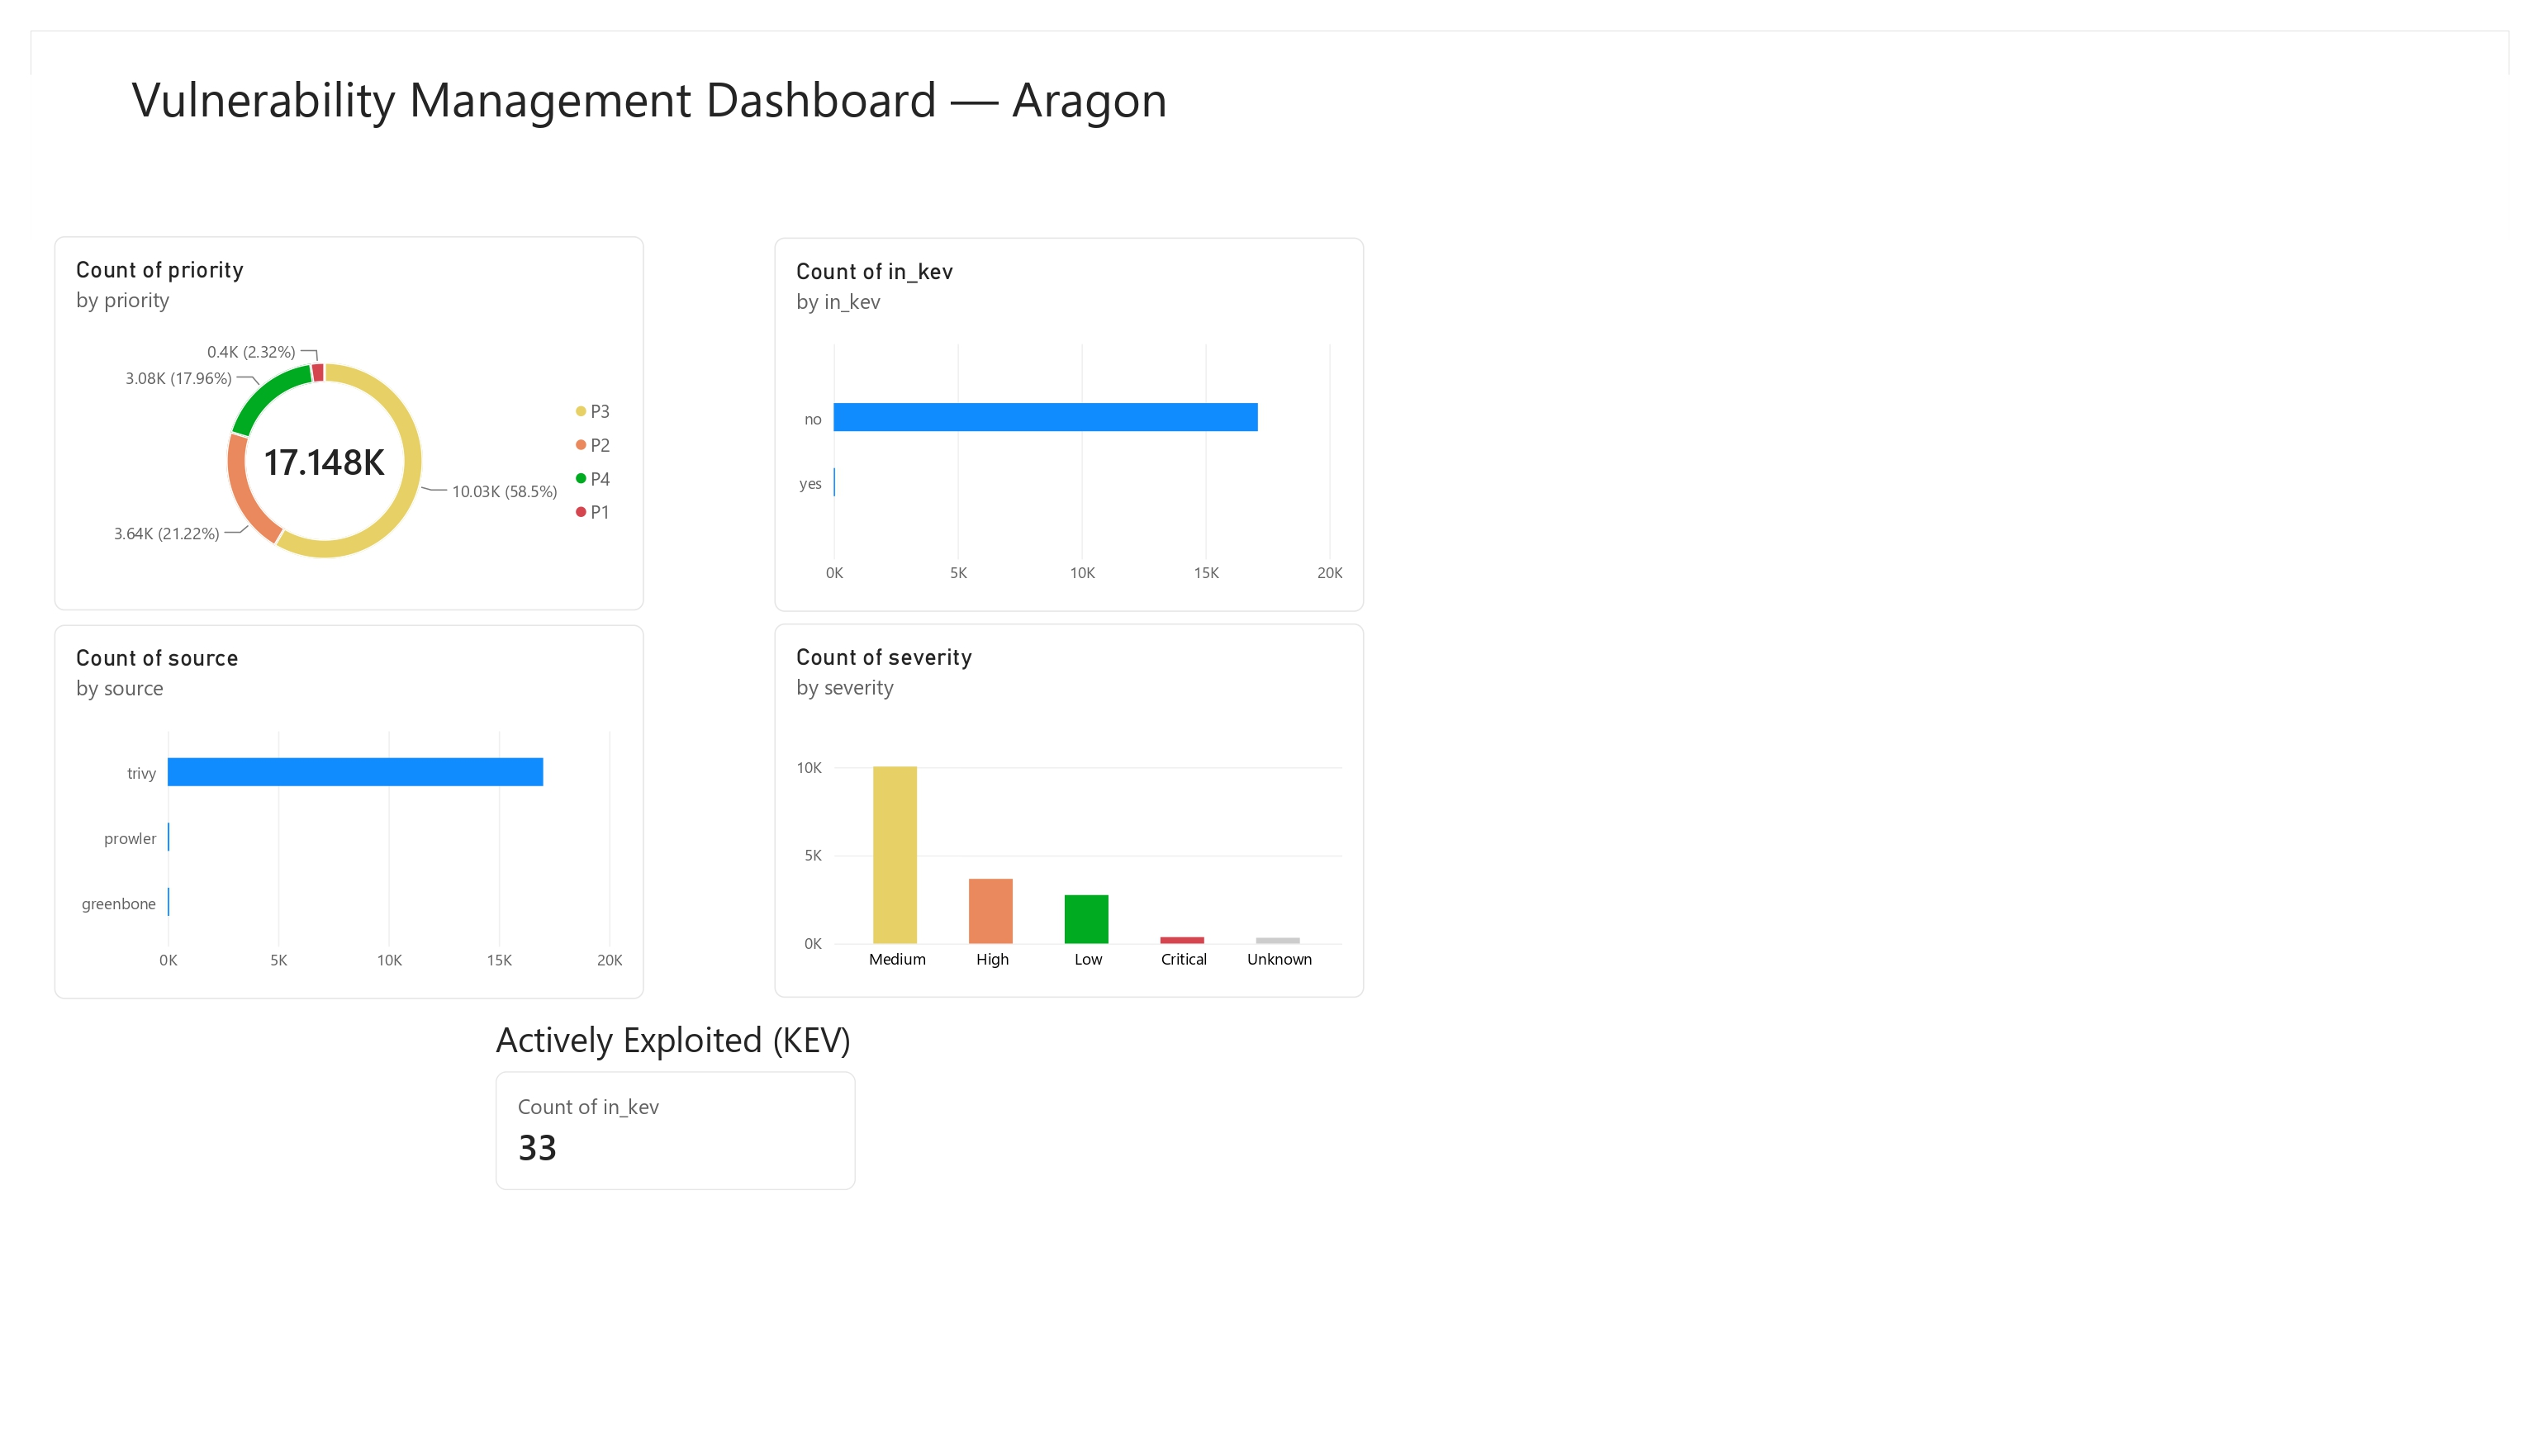

This screenshot's page, from the dashboard's own definition file:
{"tool":"powerbi","page":{"name":"Page 1","canvas":[1920,1080],"ordinal":0},"visuals":[{"type":"donutChart","fields":{"Category":["findings_scored.priority"],"Y":["CountNonNull(findings_scored.priority)"]},"box":[17.6,159.4,457,290],"z":0},{"type":"barChart","fields":{"Category":["findings_scored.source"],"Y":["CountNonNull(findings_scored.source)"]},"box":[18.2,459.6,457,290],"z":1000},{"type":"barChart","fields":{"Category":["findings_scored.in_kev"],"Y":["CountNonNull(findings_scored.in_kev)"]},"box":[576.4,160,457,290],"z":2000},{"type":"columnChart","fields":{"Category":["findings_scored.severity"],"Y":["CountNonNull(findings_scored.severity)"]},"box":[576.4,459.1,457,290],"z":3000},{"type":"textbox","box":[47.1,25.7,837.1,82.9],"z":4000},{"type":"cardVisual","fields":{"Data":["CountNonNull(findings_scored.in_kev)"]},"box":[359.8,805.7,279.3,92],"z":5000},{"type":"textbox","box":[359.8,762.1,279.3,43.7],"z":6000}]}

Visuals, with their boxes on the page's 1920x1080 design canvas (x1, y1, x2, y2). These are canvas units, not pixel positions in the 2540x1456 screenshot, which may show the page scaled, cropped or inside an application window:
donutChart - findings_scored.priority x CountNonNull(findings_scored.priority): (x1=18, y1=159, x2=475, y2=449)
barChart - findings_scored.source x CountNonNull(findings_scored.source): (x1=18, y1=460, x2=475, y2=750)
barChart - findings_scored.in_kev x CountNonNull(findings_scored.in_kev): (x1=576, y1=160, x2=1033, y2=450)
columnChart - findings_scored.severity x CountNonNull(findings_scored.severity): (x1=576, y1=459, x2=1033, y2=749)
textbox: (x1=47, y1=26, x2=884, y2=109)
cardVisual - CountNonNull(findings_scored.in_kev): (x1=360, y1=806, x2=639, y2=898)
textbox: (x1=360, y1=762, x2=639, y2=806)
